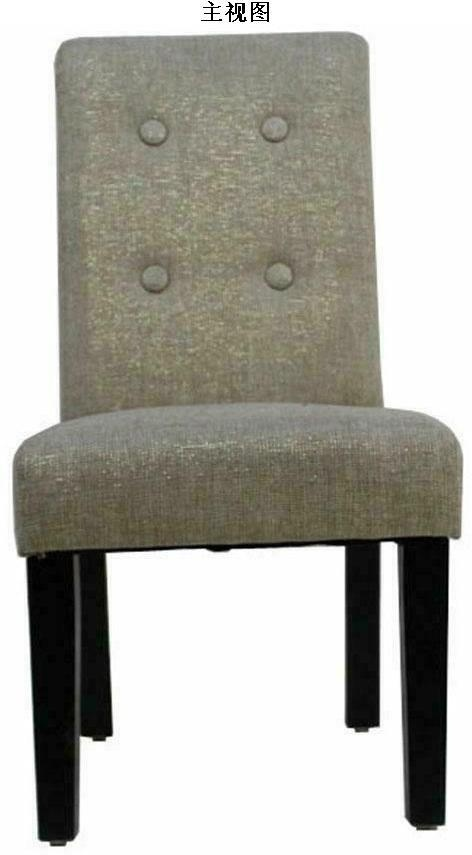obstacle: (14, 33, 460, 843)
